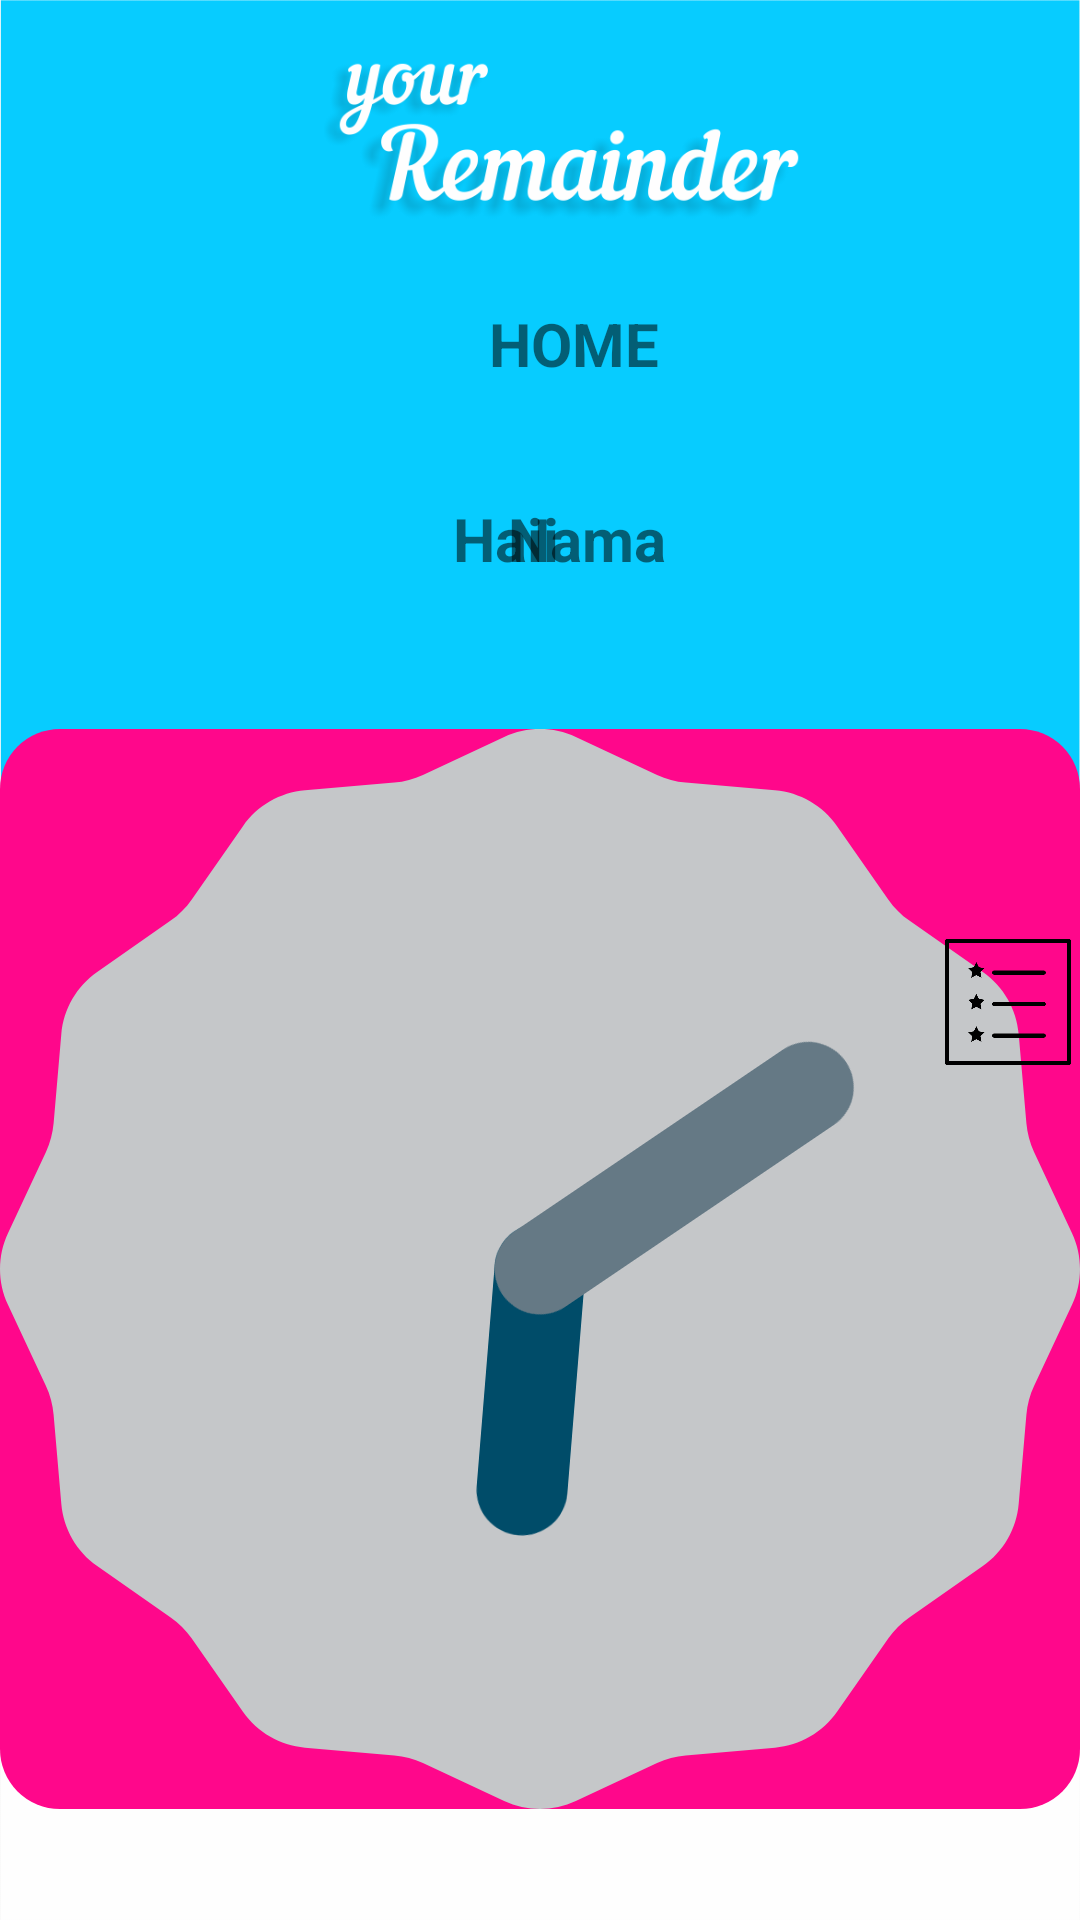

Locate icon controls on the screen. Image size 1080 x 1920, boxes as (x1, y1, x2, y2).
list: (945, 939, 1071, 1065)
